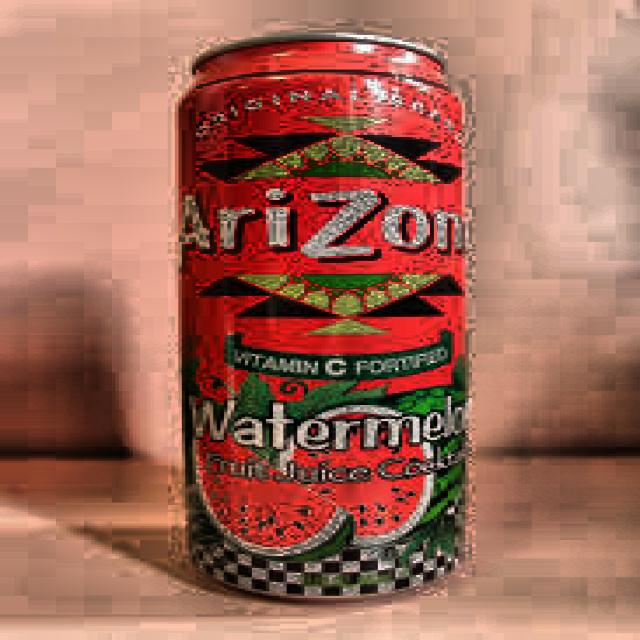can: (171, 29, 474, 602)
